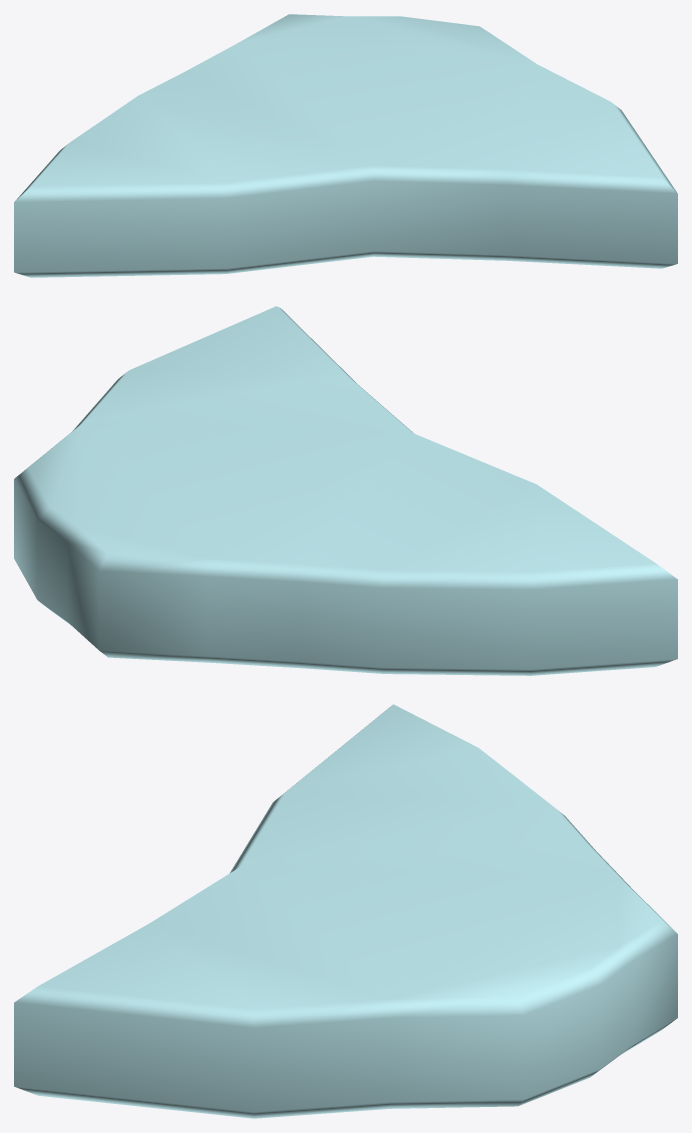
Rendered from ice_floe_medium_011.fbx.
The picture shows the model from 3 angles, top to bottom: view 1: azimuth 30°, elevation 25°; view 2: azimuth 150°, elevation 25°; view 3: azimuth 270°, elevation 25°; orthographic projection. The views are drawn at different scales.
Parts seen in each view (by area): view 1: ice_floe_medium_011; view 2: ice_floe_medium_011; view 3: ice_floe_medium_011.
Boxes of the visible parts, x1=… form: ice_floe_medium_011: x1=14, y1=14, x2=677, y2=277; ice_floe_medium_011: x1=14, y1=306, x2=677, y2=675; ice_floe_medium_011: x1=14, y1=704, x2=677, y2=1118.
Bounding box in the file's own units: 564 × 491 × 89.44.
